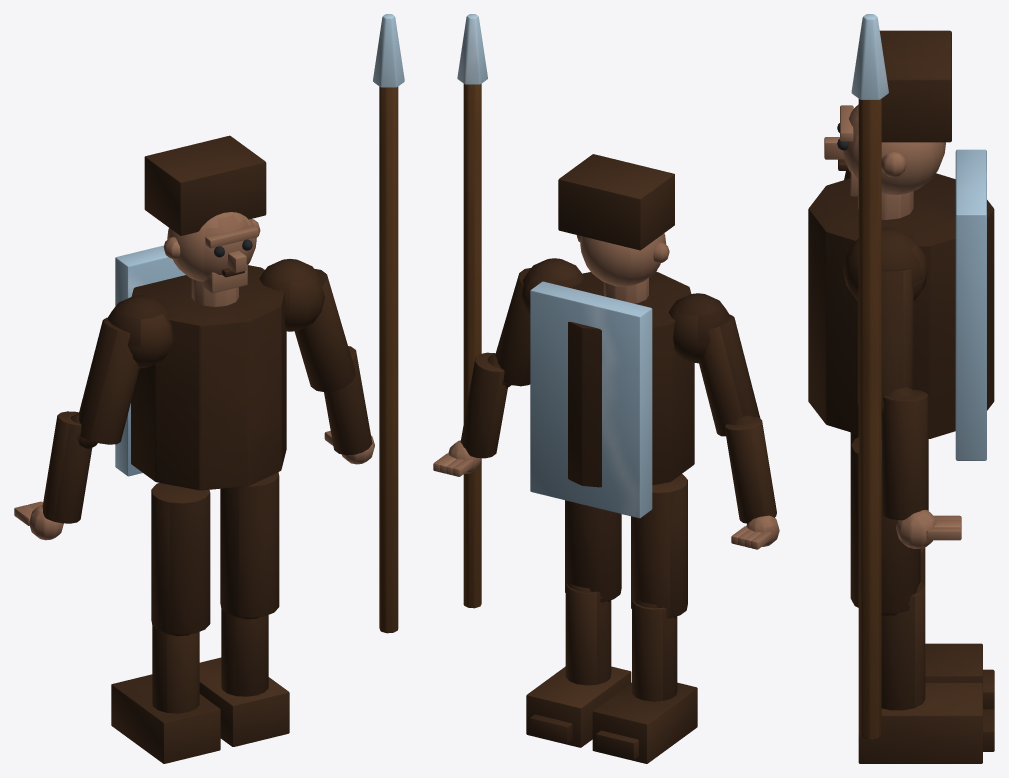
Rendered from unit_outcast_villager.fbx.
3 views of the same model, side by side, from view 1: azimuth 30°, elevation 25°; view 2: azimuth 150°, elevation 25°; view 3: azimuth 270°, elevation 25° (orthographic). The views are drawn at different scales.
Visible parts, largest first — view 1: unit_outcast_villager; view 2: unit_outcast_villager; view 3: unit_outcast_villager.
Part boxes in pixels (x1=…): unit_outcast_villager: x1=14, y1=14, x2=404, y2=763; unit_outcast_villager: x1=433, y1=14, x2=779, y2=763; unit_outcast_villager: x1=808, y1=14, x2=994, y2=763.
Size of the model in its own units: 1.22 by 2.29 by 0.4792.
